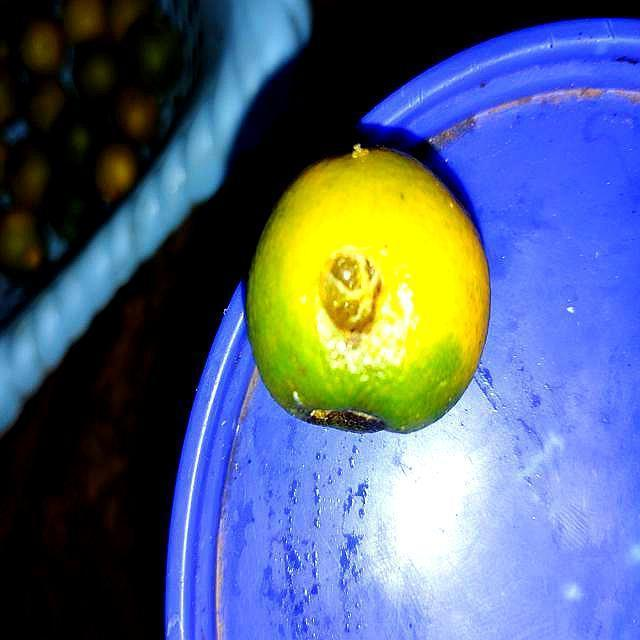Biodegradable: (247, 149, 495, 438)
